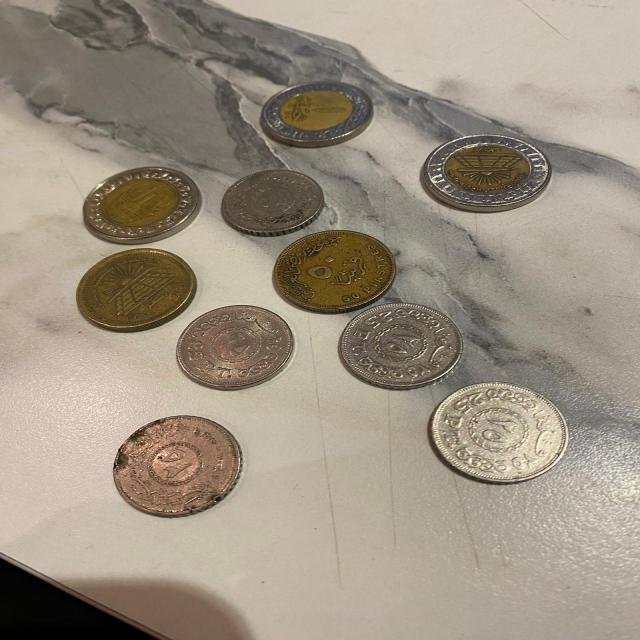Half Pound: (66, 246, 206, 334), (272, 229, 396, 312)
One Pound: (421, 134, 552, 212), (83, 166, 201, 244), (251, 78, 378, 146)
quarter pound: (429, 382, 569, 484), (113, 416, 243, 516), (339, 302, 464, 390), (174, 307, 294, 391), (221, 165, 323, 235)
